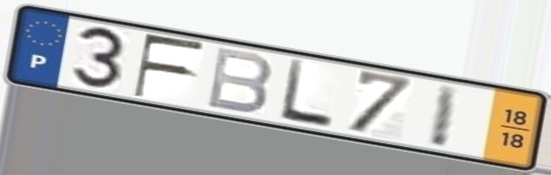3: (66, 23, 131, 93)
7: (346, 68, 416, 137)
B: (202, 44, 276, 116)
F: (131, 32, 210, 101)
I: (425, 81, 464, 151)
L: (276, 56, 336, 131)
